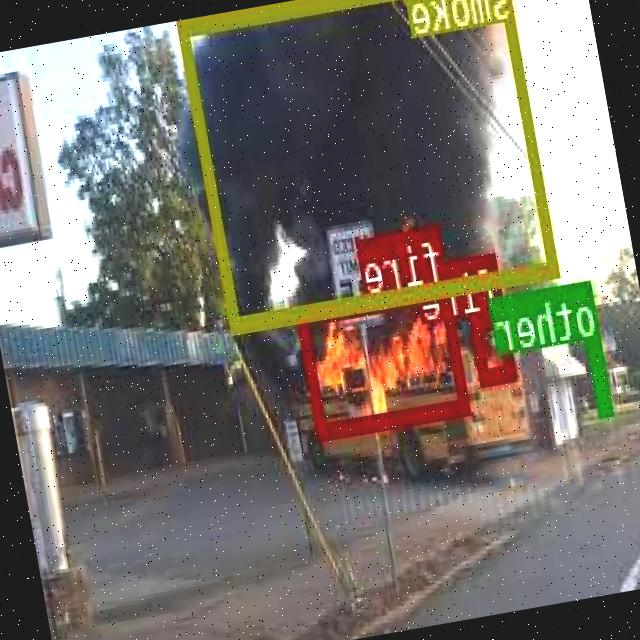fire: (298, 282, 473, 437), (470, 309, 518, 381)
smoke: (177, 0, 562, 331)
